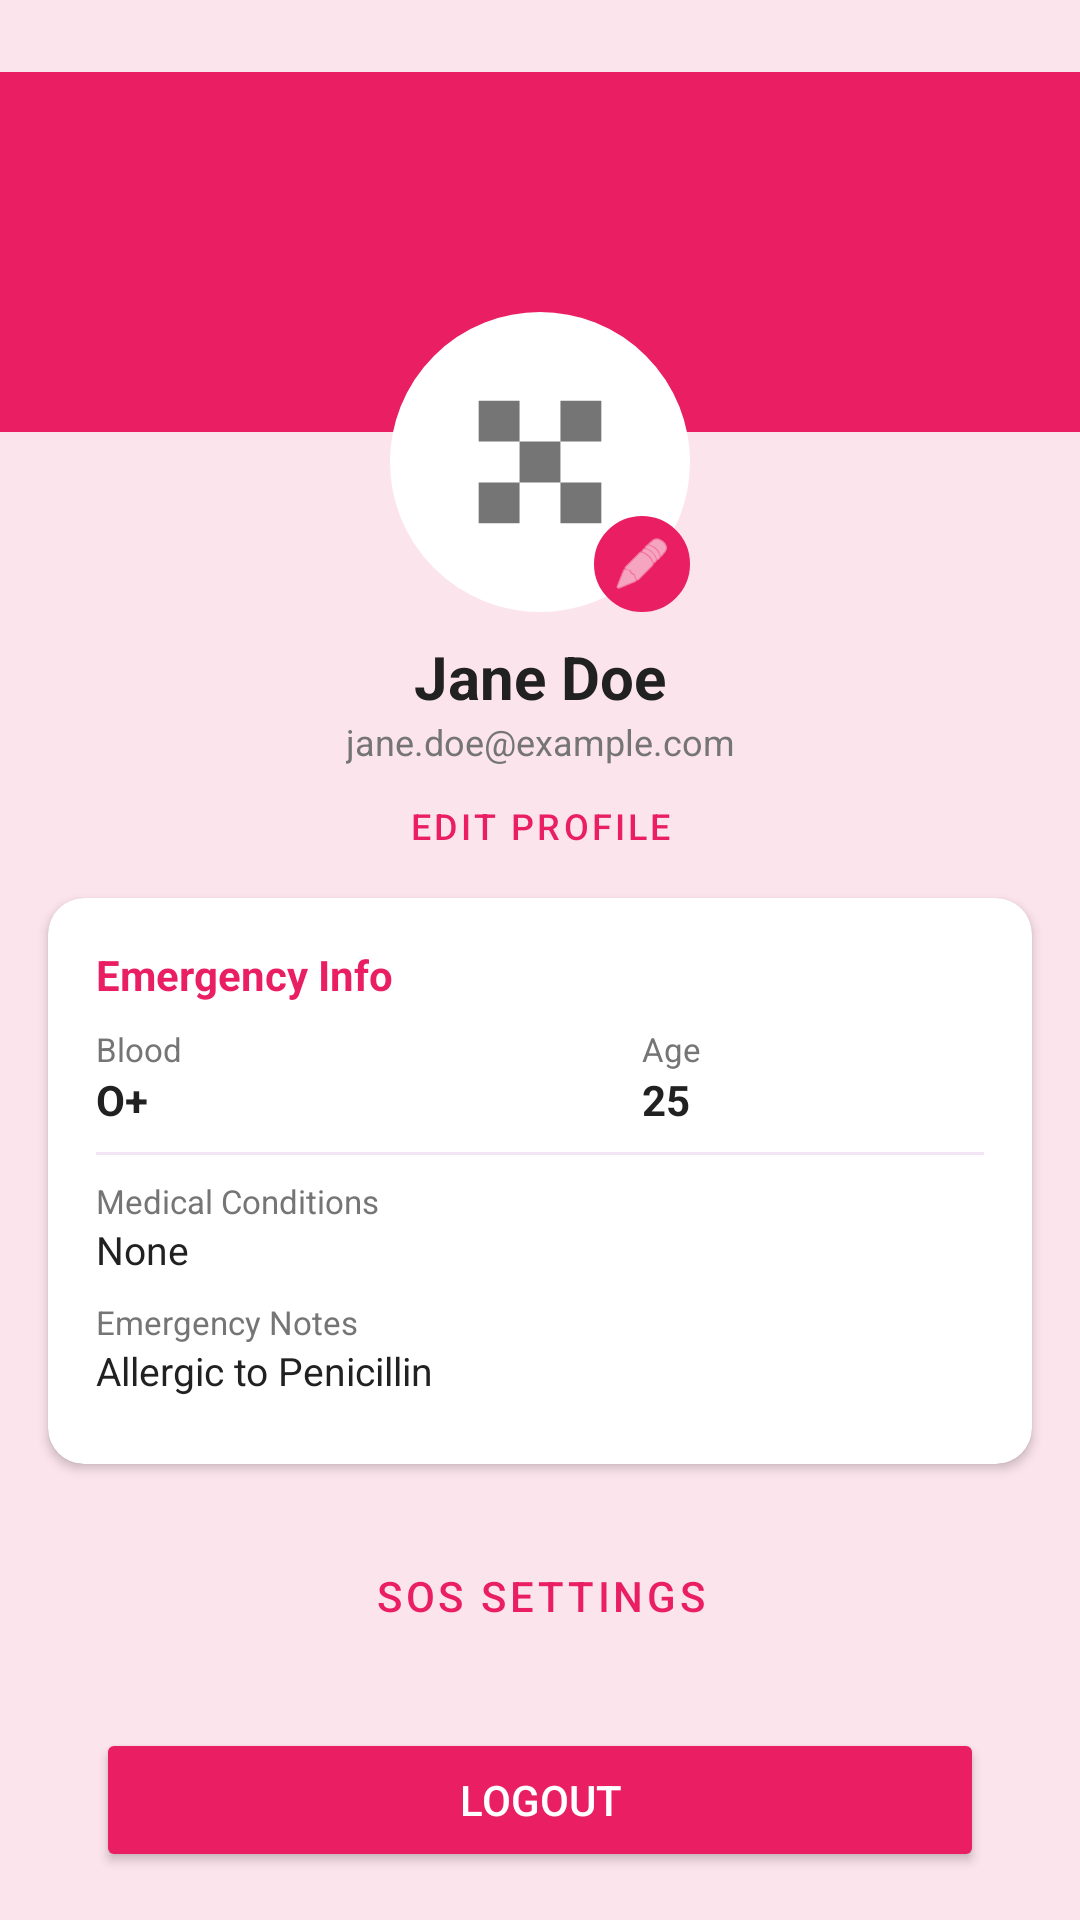

Named icons in this screenshot (1080×1920) and their centers, (x=x, y=y):
edit: (x=642, y=564)
